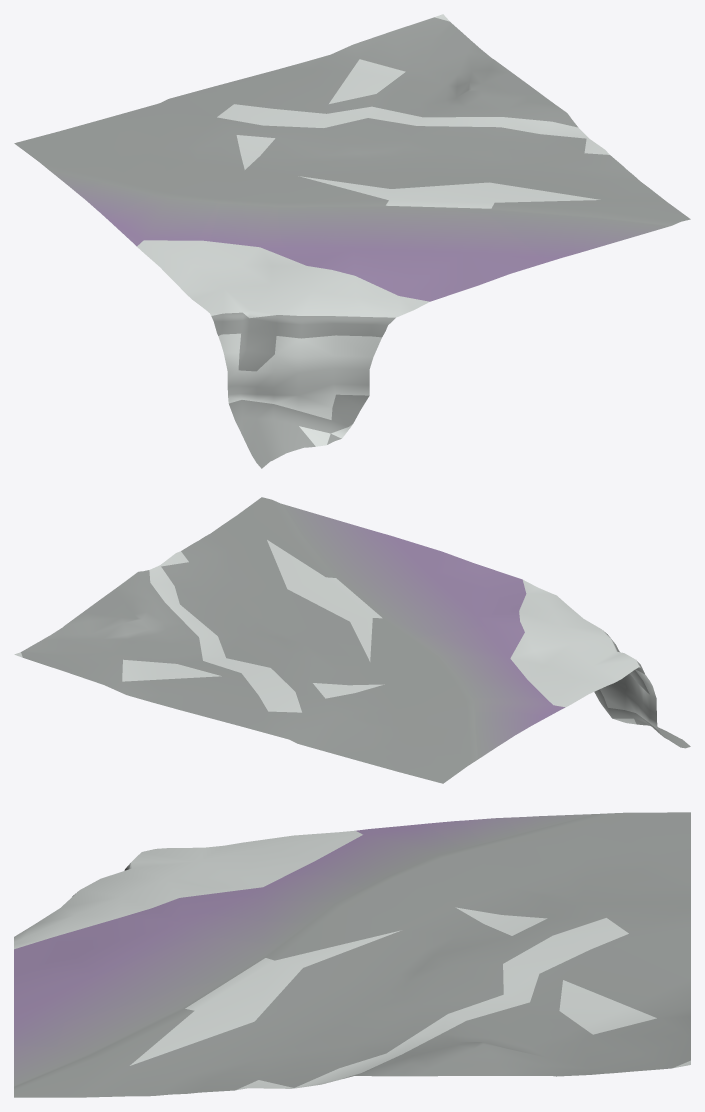
3 views of the same model, one above another, from view 1: azimuth 30°, elevation 25°; view 2: azimuth 150°, elevation 25°; view 3: azimuth 270°, elevation 25° (orthographic). The views are drawn at different scales.
Parts seen in each view (by area): view 1: G:\FFXIV-MapTools\exports\m5f1\bg\ex4\02_mid_m5\fld\m5f1\bgp (×17); view 2: G:\FFXIV-MapTools\exports\m5f1\bg\ex4\02_mid_m5\fld\m5f1\bgp (×14); view 3: G:\FFXIV-MapTools\exports\m5f1\bg\ex4\02_mid_m5\fld\m5f1\bgp (×12).
Part boxes in pixels (x1,y1,x2,y2): G:\FFXIV-MapTools\exports\m5f1\bg\ex4\02_mid_m5\fld\m5f1\bgp (×17): [14, 14, 690, 468]; G:\FFXIV-MapTools\exports\m5f1\bg\ex4\02_mid_m5\fld\m5f1\bgp (×14): [14, 497, 663, 783]; G:\FFXIV-MapTools\exports\m5f1\bg\ex4\02_mid_m5\fld\m5f1\bgp (×12): [14, 812, 690, 1097].
Bounding box in the file's own units: 128 × 48.1 × 128.
